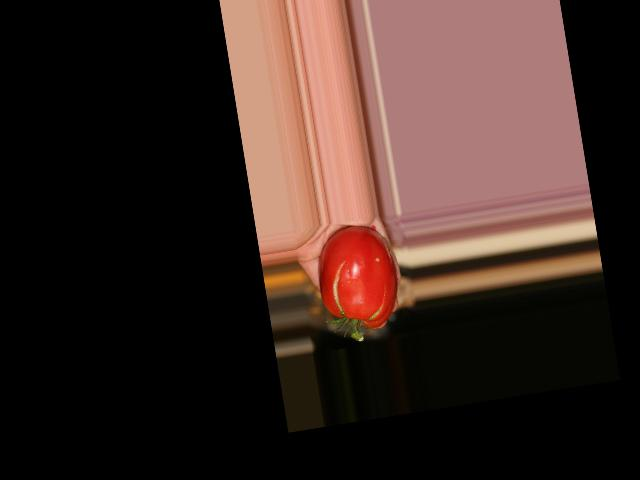tomato: (312, 220, 405, 335)
